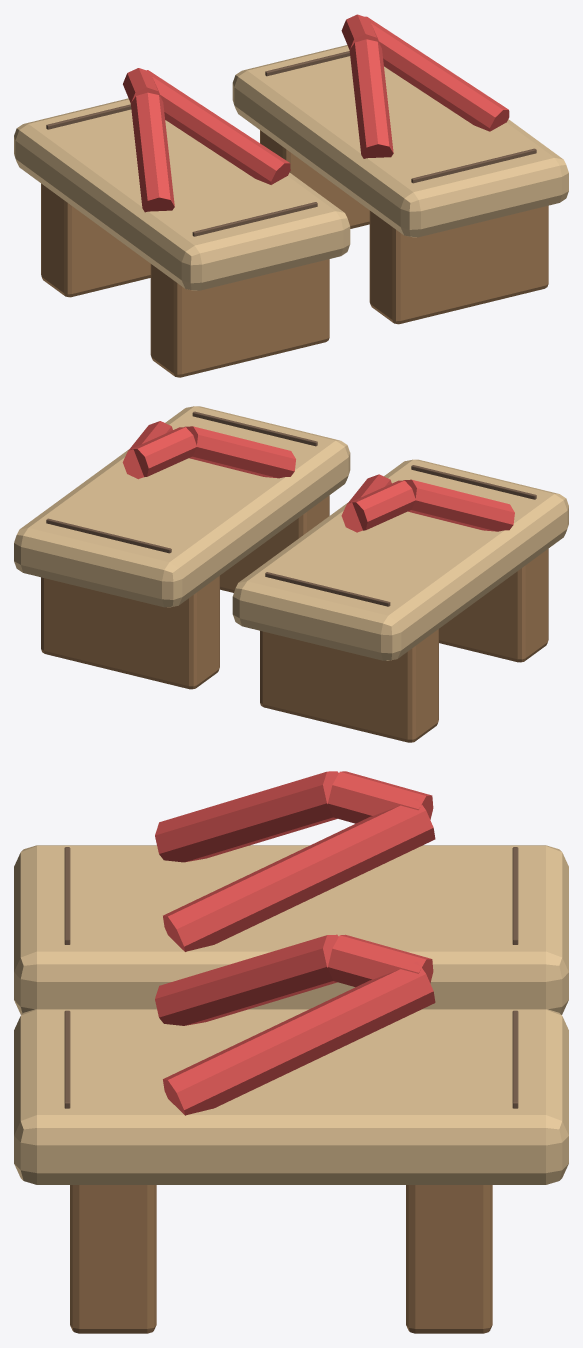
The model's file is wear_geta.glb.
3 views of the same model, one above another, from view 1: azimuth 30°, elevation 25°; view 2: azimuth 150°, elevation 25°; view 3: azimuth 270°, elevation 25° (orthographic). The views are drawn at different scales.
Visible parts, largest first — view 1: Carved geta sole, Carved geta sole.001, Two geta teeth, Two geta teeth.002, Two geta teeth.001, Cloth thong_02.001, Cloth thong_02, Cloth thong_00.001, Cloth thong_00, Two geta teeth.003, Cloth thong_01, Cloth thong_01.001 (+4 smaller); view 2: Carved geta sole.001, Carved geta sole, Two geta teeth.001, Two geta teeth.003, Two geta teeth, Cloth thong_00.001, Cloth thong_00, Two geta teeth.002, Cloth thong_01, Cloth thong_01.001, Cloth thong_02.001, Cloth thong_02 (+4 smaller); view 3: Carved geta sole.001, Carved geta sole, Cloth thong_02, Cloth thong_02.001, Two geta teeth.003, Two geta teeth.002, Cloth thong_00, Cloth thong_00.001, Cloth thong_01, Cloth thong_01.001.
Part boxes in pixels (x1=…): Carved geta sole: x1=14, y1=98, x2=350, y2=290; Carved geta sole.001: x1=232, y1=45, x2=568, y2=237; Two geta teeth: x1=150, y1=259, x2=329, y2=377; Two geta teeth.002: x1=369, y1=205, x2=548, y2=324; Two geta teeth.001: x1=41, y1=183, x2=150, y2=297; Cloth thong_02.001: x1=361, y1=16, x2=509, y2=131; Cloth thong_02: x1=142, y1=70, x2=290, y2=184; Cloth thong_00.001: x1=349, y1=39, x2=393, y2=158; Cloth thong_00: x1=131, y1=92, x2=174, y2=212; Two geta teeth.003: x1=260, y1=130, x2=369, y2=228; Cloth thong_01: x1=123, y1=68, x2=162, y2=103; Cloth thong_01.001: x1=341, y1=14, x2=381, y2=49; Carved geta sole.001: x1=14, y1=406, x2=350, y2=607; Carved geta sole: x1=232, y1=459, x2=568, y2=660; Two geta teeth.001: x1=260, y1=629, x2=438, y2=742; Two geta teeth.003: x1=41, y1=576, x2=219, y2=689; Two geta teeth: x1=439, y1=549, x2=548, y2=662; Cloth thong_00.001: x1=184, y1=426, x2=295, y2=478; Cloth thong_00: x1=403, y1=479, x2=514, y2=531; Two geta teeth.002: x1=220, y1=495, x2=329, y2=592; Cloth thong_01: x1=350, y1=480, x2=415, y2=530; Cloth thong_01.001: x1=131, y1=427, x2=196, y2=476; Cloth thong_02.001: x1=122, y1=421, x2=172, y2=479; Cloth thong_02: x1=341, y1=474, x2=391, y2=532; Carved geta sole.001: x1=14, y1=1009, x2=568, y2=1184; Carved geta sole: x1=14, y1=845, x2=568, y2=1014; Cloth thong_02: x1=163, y1=798, x2=435, y2=951; Cloth thong_02.001: x1=163, y1=961, x2=435, y2=1115; Two geta teeth.003: x1=406, y1=1185, x2=492, y2=1333; Two geta teeth.002: x1=70, y1=1185, x2=156, y2=1333; Cloth thong_00: x1=155, y1=771, x2=338, y2=862; Cloth thong_00.001: x1=155, y1=934, x2=338, y2=1025; Cloth thong_01: x1=328, y1=771, x2=433, y2=823; Cloth thong_01.001: x1=328, y1=934, x2=433, y2=987.
Size of the model in its own units: 1.95 by 1.04 by 1.59.
